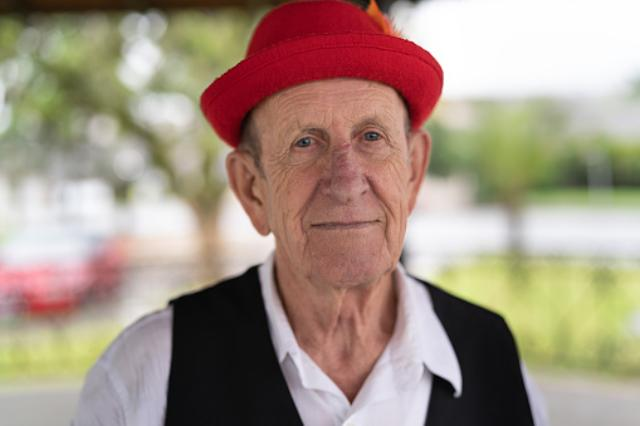crows_feet: (266, 148, 292, 174), (384, 134, 400, 164)
forehead: (345, 82, 389, 102), (280, 90, 310, 107)
frown_line: (319, 106, 337, 128)
gummy_smile: (366, 176, 392, 213), (300, 177, 322, 218)
sad_smile: (378, 213, 394, 243), (296, 222, 312, 250)
